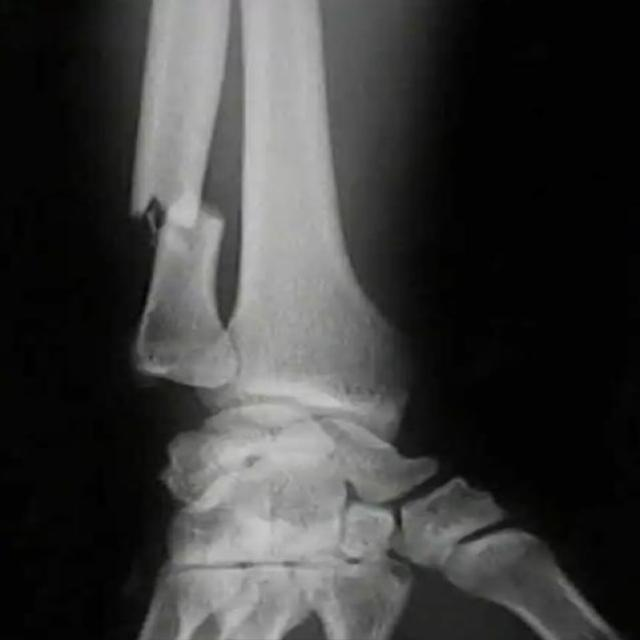bone: (123, 364, 235, 438), (114, 178, 240, 243)
